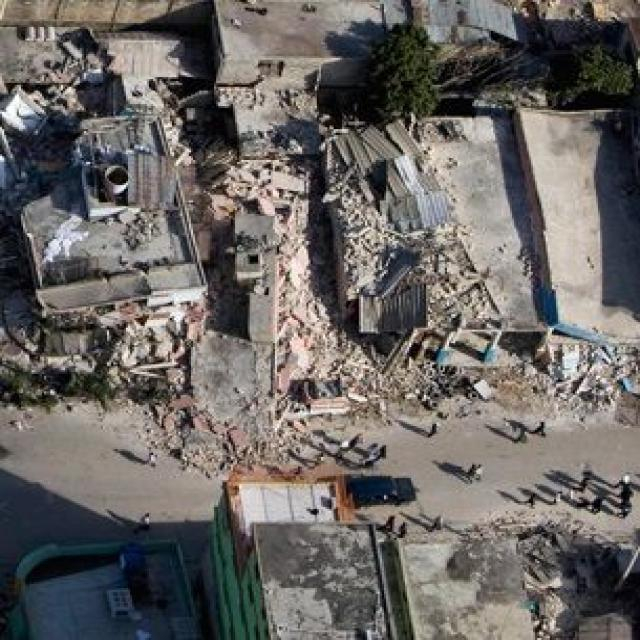collapsed_building: (338, 120, 508, 399), (180, 144, 338, 412), (27, 178, 168, 416)
